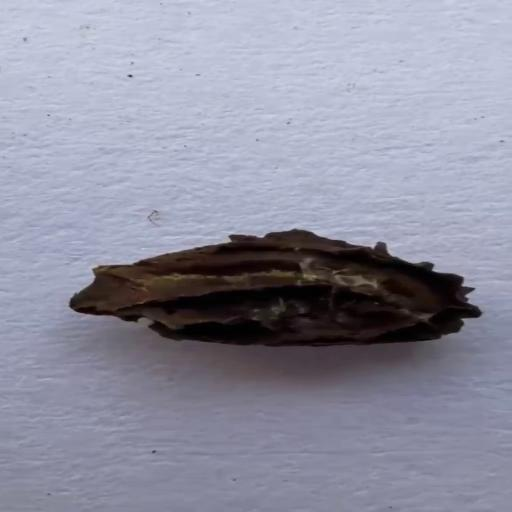papaya_seed: (72, 225, 484, 355)
